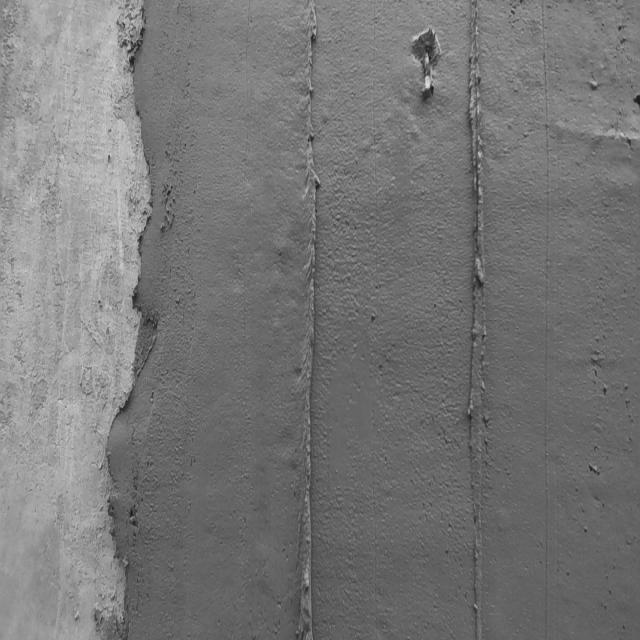trowels marks: (293, 3, 324, 640), (464, 3, 491, 640), (539, 5, 561, 640)
